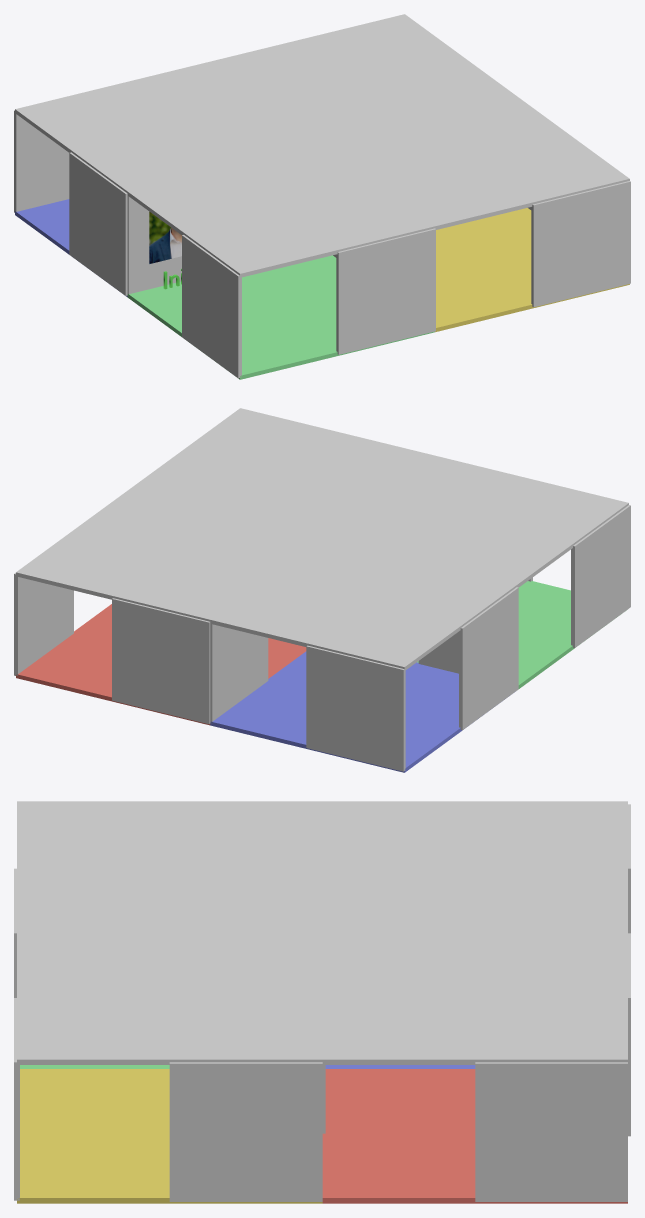
File: 007-texto inicio.glb
The picture shows the model from 3 angles, top to bottom: view 1: azimuth 30°, elevation 25°; view 2: azimuth 150°, elevation 25°; view 3: azimuth 270°, elevation 25°; orthographic projection. The views are drawn at different scales.
Visible parts, largest first — view 1: Cube.007, Cube.029, Cube.006, Cube.018, Cube.011, Cube.033, Cube.021, Cube.010, Cube.008, Cube.030, Cube.022, Cube.043 (+20 smaller); view 2: Cube.017, Cube.039, Cube.018, Cube.006, Cube.021, Cube.020, Cube.041, Cube.010, Cube.042, Cube.022, Cube.011, Cube.032 (+20 smaller); view 3: Cube.027, Cube.038, Cube.034, Cube.040, Cube.030, Cube.023, Cube.031, Cube.041, Cube.009, Cube.010, Cube.019, Cube.022 (+14 smaller).
Boxes of the visible parts, x1,y1,x2,y2 form: Cube.007: (336,228,435,354); Cube.029: (531,181,630,307); Cube.006: (182,235,241,378); Cube.018: (69,152,127,295); Cube.011: (184,209,337,277); Cube.033: (379,161,532,229); Cube.021: (15,85,168,152); Cube.010: (127,168,280,234); Cube.008: (282,185,434,251); Cube.030: (476,137,629,204); Cube.022: (71,126,224,193); Cube.043: (266,79,419,143); Cube.017: (306,645,405,771); Cube.039: (112,598,210,723); Cube.018: (459,587,518,730); Cube.006: (571,505,630,647); Cube.021: (307,602,460,669); Cube.020: (210,578,362,646); Cube.041: (16,531,168,599); Cube.010: (420,520,572,587); Cube.042: (113,555,265,621); Cube.022: (364,561,516,627); Cube.011: (476,479,628,545); Cube.032: (225,473,378,537); Cube.027: (169,1062,322,1201); Cube.038: (475,1062,627,1201); Cube.034: (322,1133,475,1203); Cube.040: (322,995,475,1064); Cube.030: (17,995,169,1064); Cube.023: (17,1133,169,1203); Cube.031: (169,995,322,1062); Cube.041: (475,995,627,1062); Cube.009: (169,866,322,930); Cube.010: (169,801,322,865); Cube.019: (322,866,475,930); Cube.022: (322,801,475,865).
Bounding box in the file's own units: 8.08 × 2.08 × 8.08.
6 materials, 1 textured.
